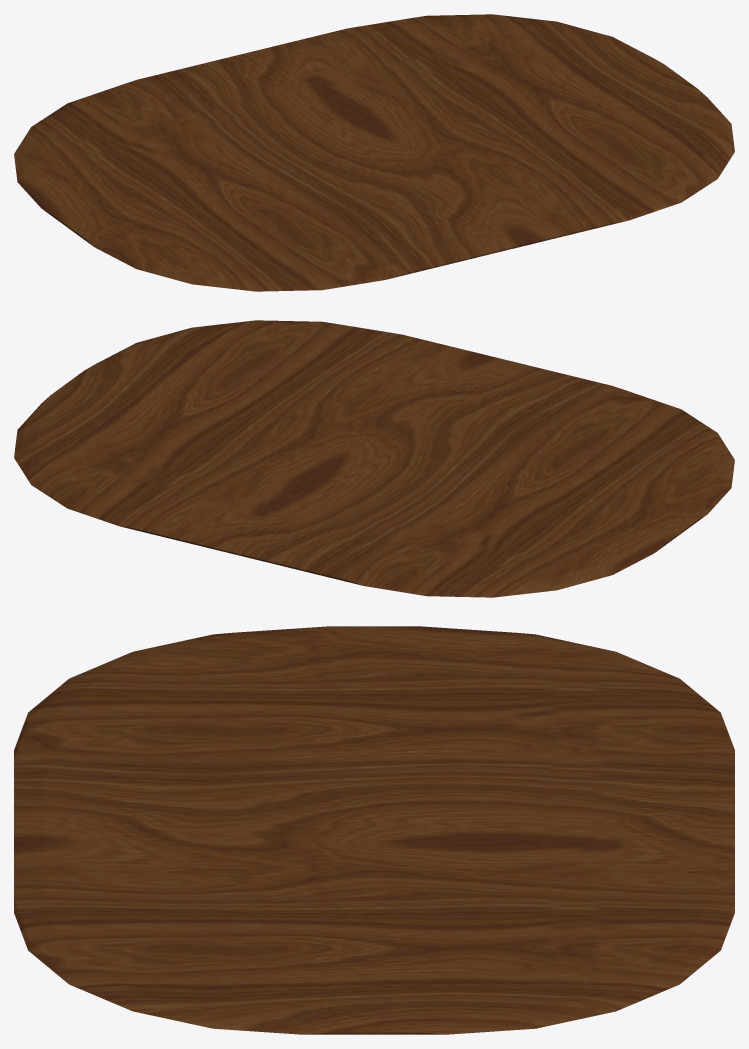
Rendered from Misc_AreaRug.fbx.
3 renders of one model, top to bottom at view 1: azimuth 30°, elevation 25°; view 2: azimuth 150°, elevation 25°; view 3: azimuth 270°, elevation 25°, orthographic. The views are drawn at different scales.
Visible parts, largest first — view 1: pCube6; view 2: pCube6; view 3: pCube6.
Part boxes in pixels (x1=…): pCube6: x1=14, y1=14, x2=734, y2=291; pCube6: x1=14, y1=320, x2=734, y2=597; pCube6: x1=14, y1=626, x2=734, y2=1034.
Bounding box in the file's own units: 200 × 1 × 150.
